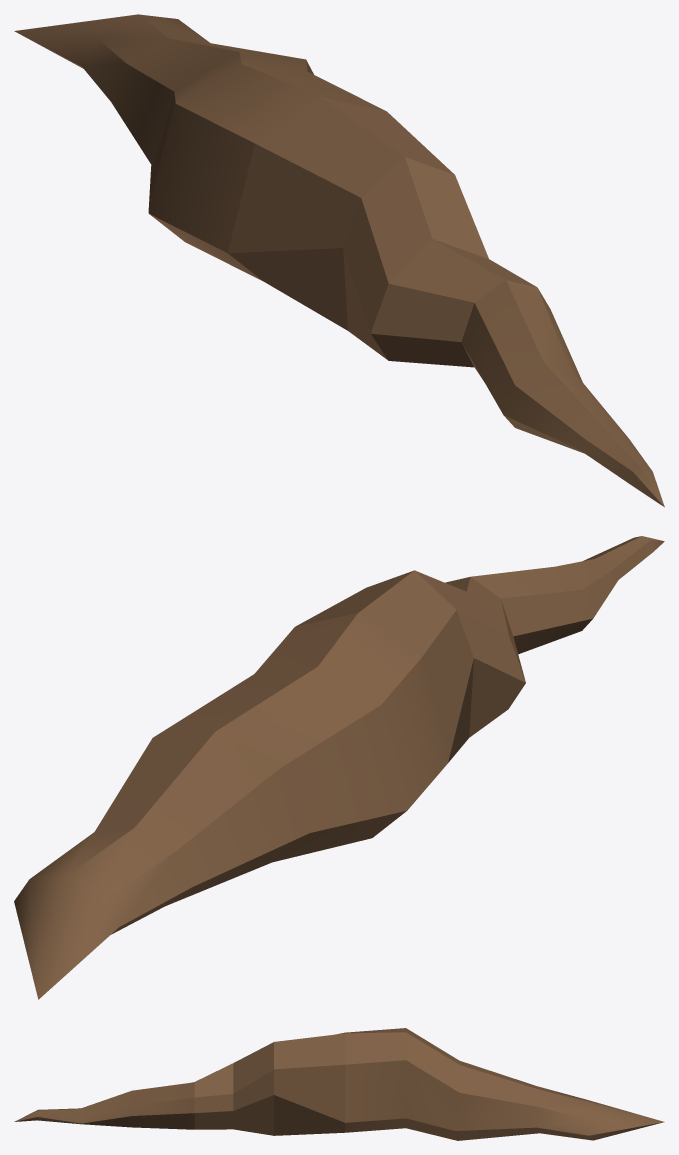
Rendered from Tree_Root2.fbx.
3 views of the same model, one above another, from view 1: azimuth 30°, elevation 25°; view 2: azimuth 150°, elevation 25°; view 3: azimuth 270°, elevation 25° (orthographic). The views are drawn at different scales.
Parts seen in each view (by area): view 1: Roots; view 2: Roots; view 3: Roots.
Boxes of the visible parts, box(x1,y1,x2,y2) form: Roots: box(14, 14, 664, 507); Roots: box(14, 536, 664, 999); Roots: box(14, 1028, 664, 1140).
Bounding box in the file's own units: 215 × 147 × 1016.
